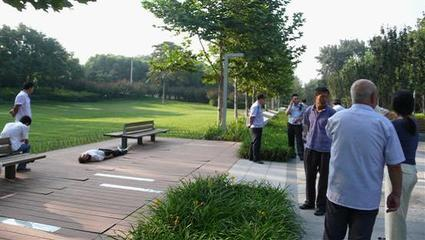fall: (73, 141, 134, 164)
